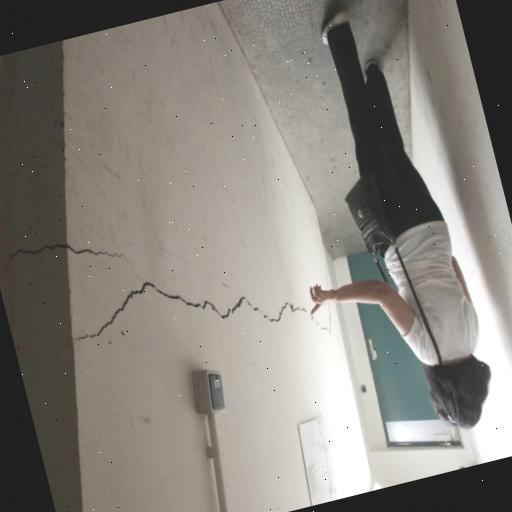spalling: (79, 273, 302, 347), (74, 242, 123, 266)
